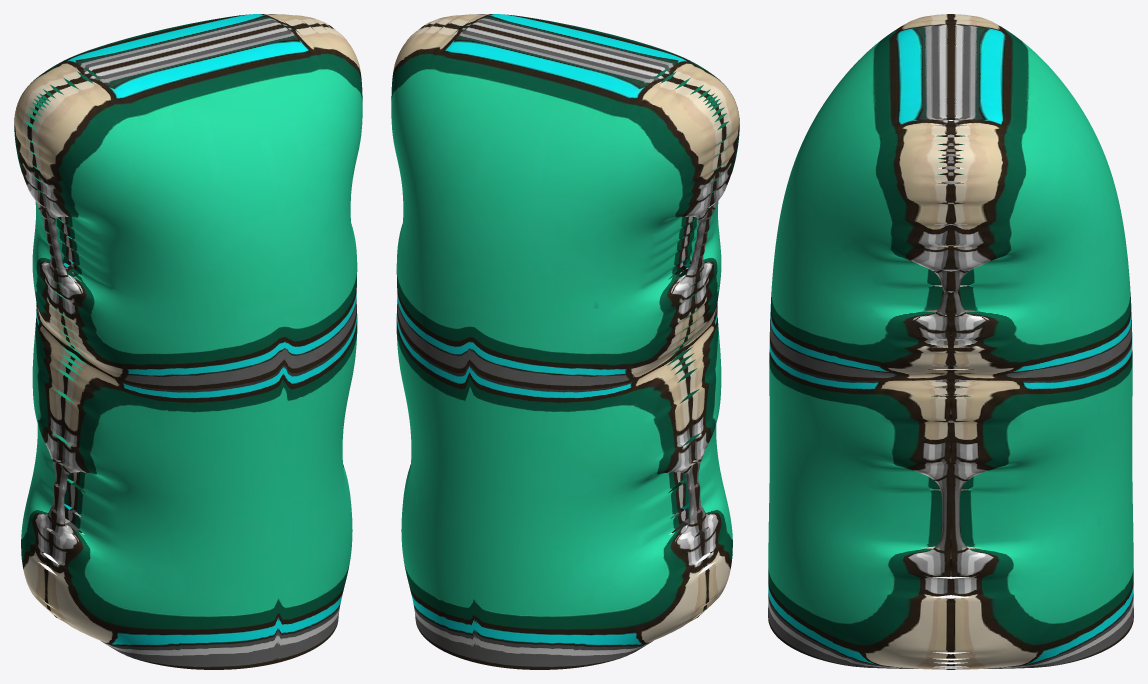
Rendered from angled_displays.glb.
3 renders of one model, left to right at view 1: azimuth 30°, elevation 25°; view 2: azimuth 150°, elevation 25°; view 3: azimuth 270°, elevation 25°, orthographic.
Visible parts, largest first — view 1: angled_displays; view 2: angled_displays; view 3: angled_displays.
Boxes of the visible parts, x1,y1,x2,y2 form: angled_displays: [14, 14, 362, 669]; angled_displays: [391, 14, 739, 669]; angled_displays: [768, 14, 1133, 669].
Bounding box in the file's own units: 0.9818 × 1.63 × 0.9838.
Materials: 1 (1 with a texture image).
